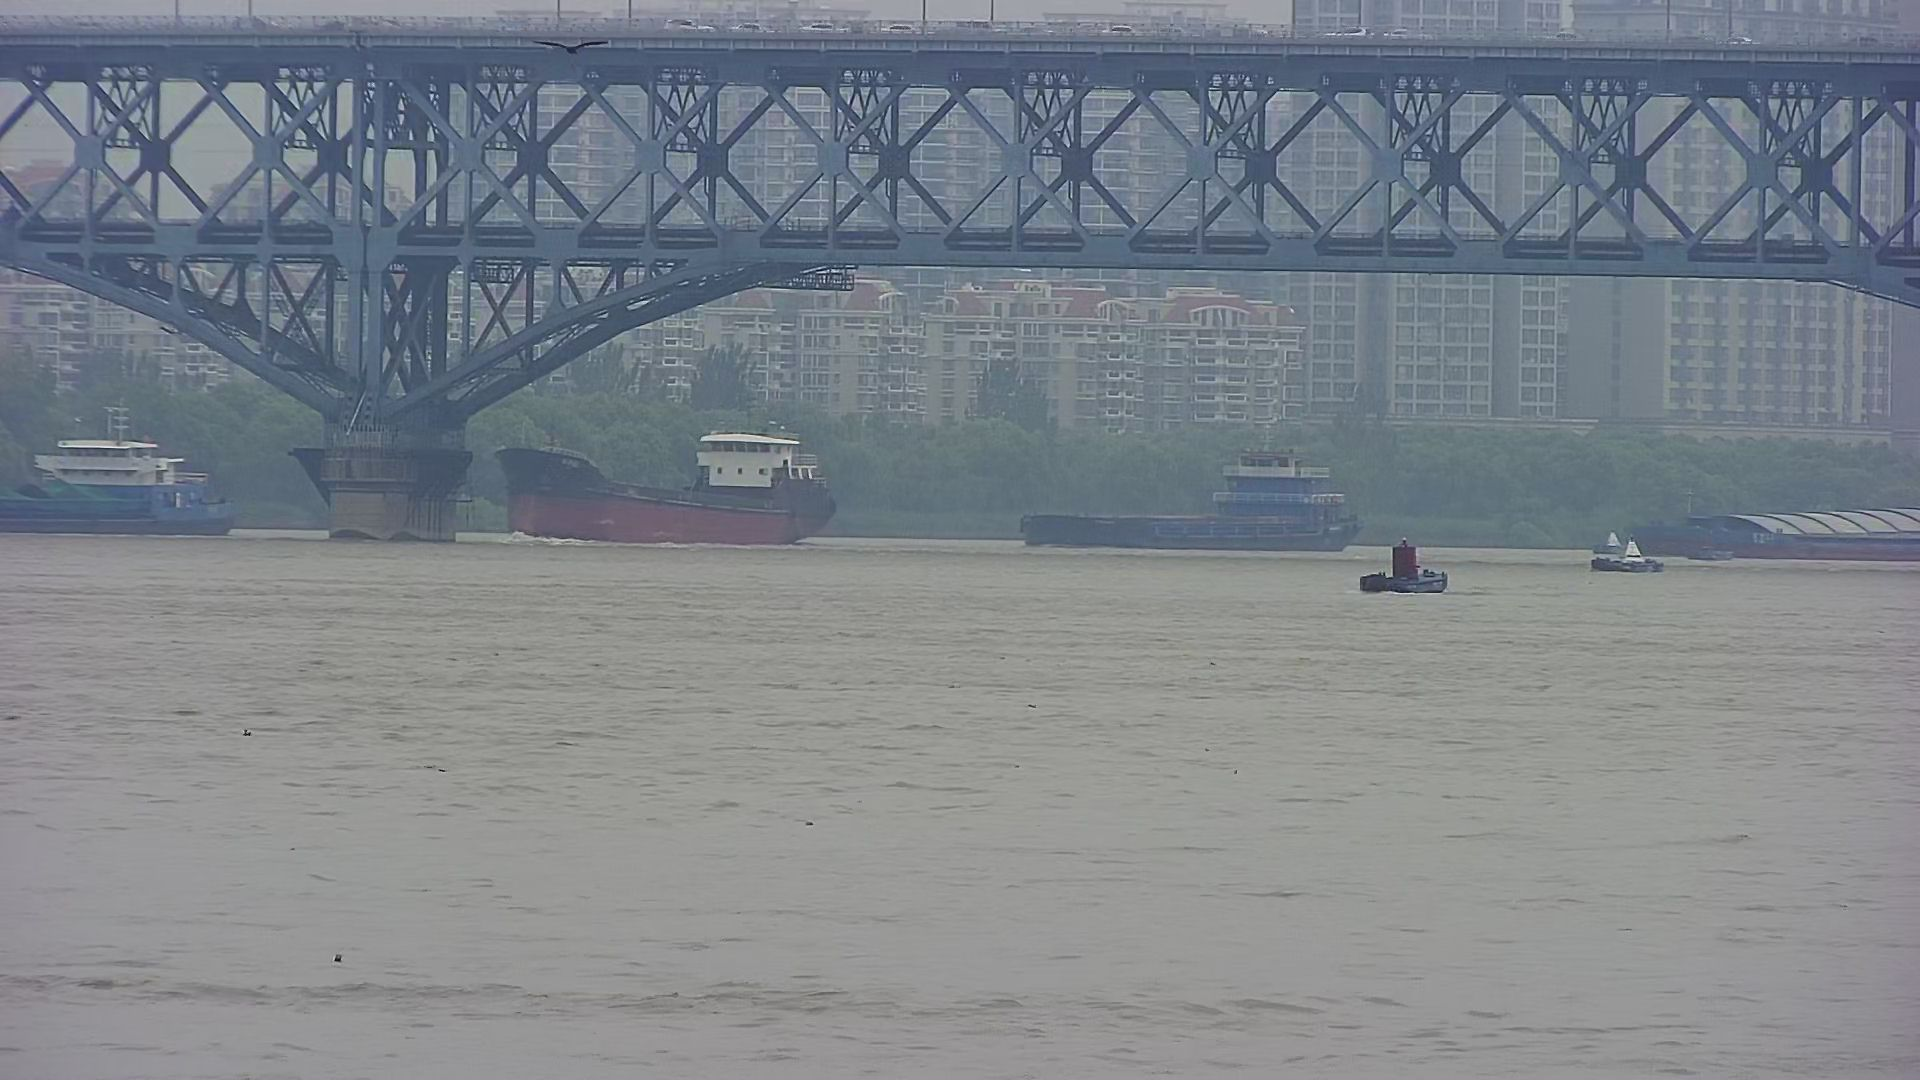boat: (1360, 545, 1457, 603), (1588, 542, 1658, 567)
bridge: (3, 15, 1920, 414)
ship: (481, 425, 844, 553), (1007, 444, 1365, 553), (11, 404, 245, 543)
